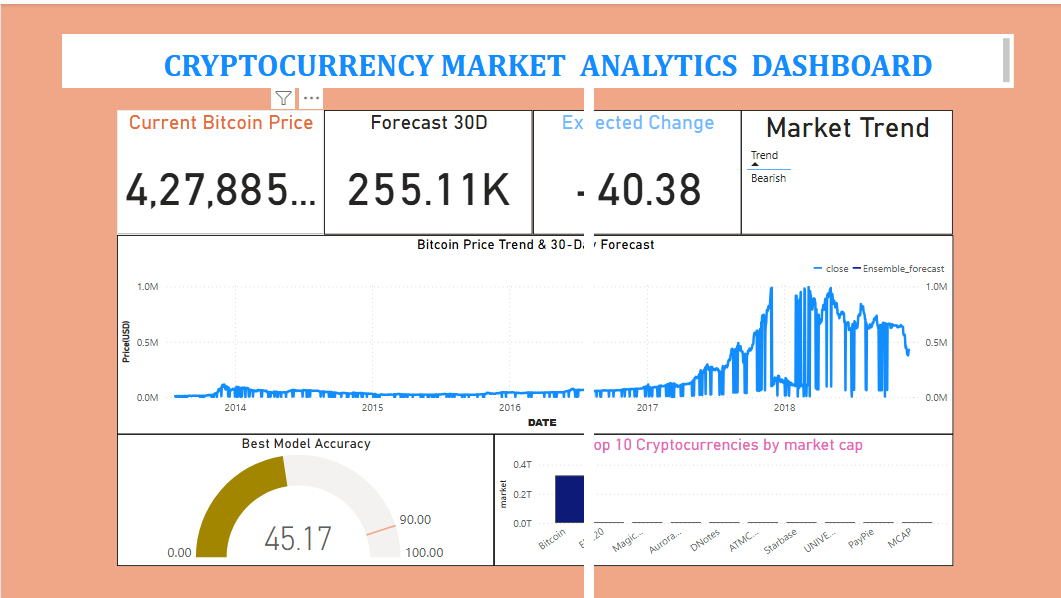

The page's visual inventory and layout, read from the dashboard file:
{"tool":"powerbi","page":{"name":"Page 1","canvas":[1280,720],"ordinal":0},"visuals":[{"type":"card","title":"Current Bitcoin Price","fields":{"Values":["KPIDashboard.Current Price"]},"box":[139.7,127.7,249.4,150.2],"z":0},{"type":"card","title":"Forecast 30D","fields":{"Values":["KPIDashboard.Forecast 30D"]},"box":[389.1,127.7,250.9,150.2],"z":1000},{"type":"card","title":"Expected Change","fields":{"Values":["KPIDashboard.Price Change %"]},"box":[640,127.7,250.9,150.2],"z":2000},{"type":"tableEx","title":"Market  Trend","fields":{"Values":["KPIDashboard.Trend"]},"box":[890.9,127.7,255.4,150.2],"z":3000},{"type":"lineChart","title":"Bitcoin Price Trend & 30-Day Forecast","fields":{"Category":["BitcoinComplete.date"],"Y2":["Sum(FutureForecast.Ensemble_forecast)"],"Y":["Sum(BitcoinComplete.close)"]},"box":[139.7,277.9,1006.6,240.4],"z":4000},{"type":"gauge","title":"Best Model Accuracy","fields":{"Y":["KPIDashboard.Model Accuracy %"]},"box":[139.7,518.3,453.7,159.2],"z":5000},{"type":"columnChart","title":"Top 10 Cryptocurrencies by market cap","fields":{"Category":["TopCryptocurrencies.name"],"Y":["Sum(TopCryptocurrencies.market)"]},"box":[593.4,518.3,552.9,159.2],"z":6000},{"type":"textbox","box":[701.6,36.1,12,683.6],"z":7000},{"type":"textbox","box":[73.6,36.1,1146.3,64.6],"z":8000}]}

Visuals, with their boxes on the page's 1280x720 design canvas (x1, y1, x2, y2). These are canvas units, not pixel positions in the 1061x598 screenshot, which may show the page scaled, cropped or inside an application window:
"Current Bitcoin Price" card: box=[140, 128, 389, 278]
"Forecast 30D" card: box=[389, 128, 640, 278]
"Expected Change" card: box=[640, 128, 891, 278]
"Market  Trend" tableEx: box=[891, 128, 1146, 278]
"Bitcoin Price Trend & 30-Day Forecast" lineChart: box=[140, 278, 1146, 518]
"Best Model Accuracy" gauge: box=[140, 518, 593, 678]
"Top 10 Cryptocurrencies by market cap" columnChart: box=[593, 518, 1146, 678]
textbox: box=[702, 36, 714, 720]
textbox: box=[74, 36, 1220, 101]
